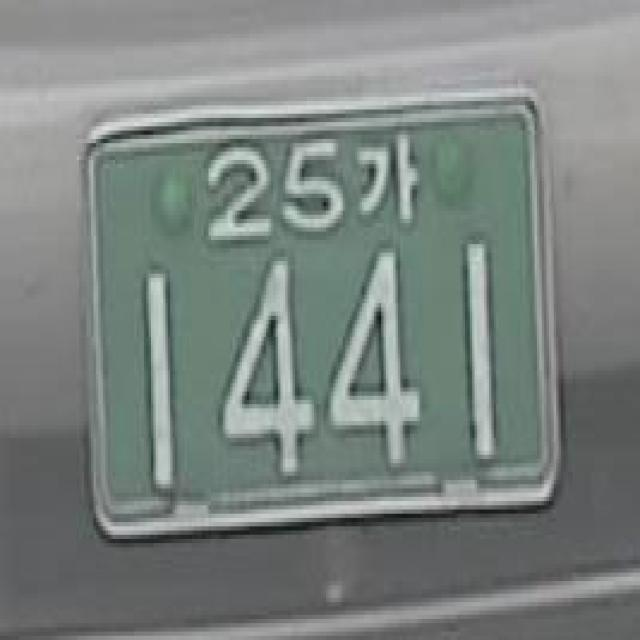illegal_plate: (75, 74, 578, 558)
